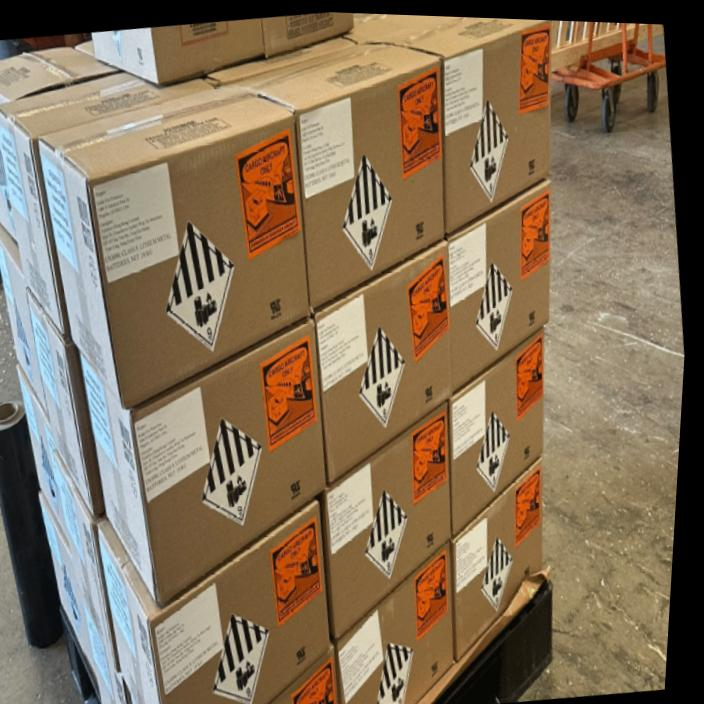elevator doors: (166, 222, 234, 349), (202, 418, 261, 524), (343, 155, 391, 268), (213, 615, 268, 704), (359, 327, 403, 427), (366, 490, 407, 577), (472, 101, 507, 201), (476, 262, 511, 349), (477, 411, 509, 488), (377, 643, 413, 704), (481, 537, 511, 609)
